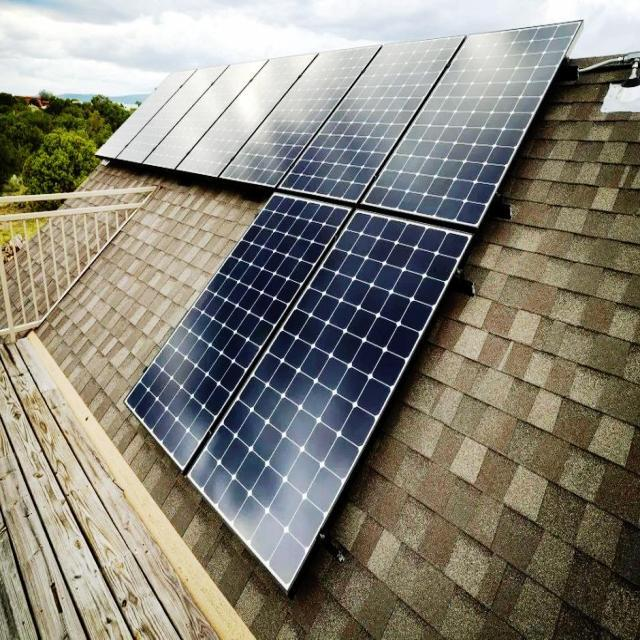no faulty: (186, 208, 476, 592), (122, 193, 340, 472), (360, 20, 586, 224), (172, 47, 322, 182)
